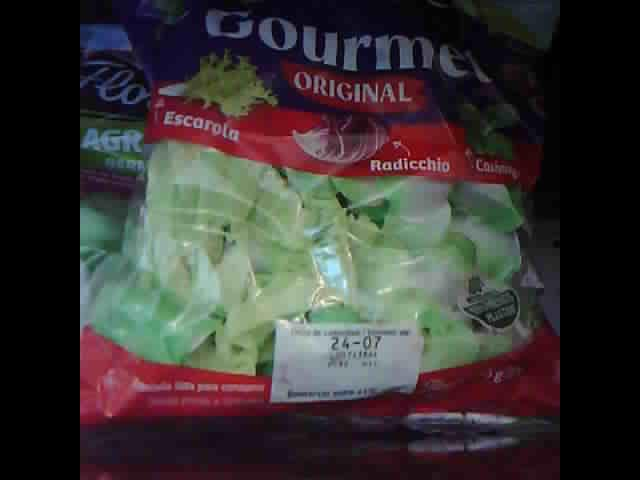florette: (83, 3, 557, 431), (80, 5, 209, 264)
